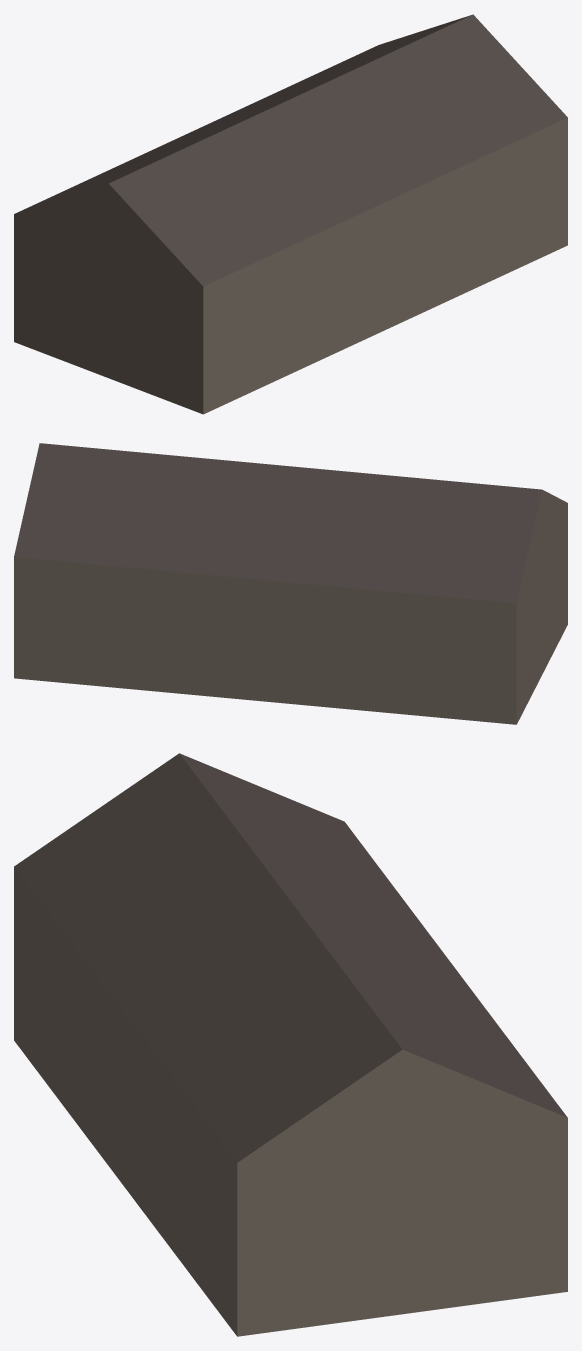
The picture shows the model from 3 angles, top to bottom: view 1: azimuth 30°, elevation 25°; view 2: azimuth 150°, elevation 25°; view 3: azimuth 270°, elevation 25°; orthographic projection. The views are drawn at different scales.
Visible parts, largest first — view 1: HP-w1376988795; view 2: HP-w1376988795; view 3: HP-w1376988795.
Part boxes in pixels (x1,y1,x2,y2): HP-w1376988795: [14, 14, 567, 414]; HP-w1376988795: [14, 443, 567, 724]; HP-w1376988795: [14, 753, 567, 1336].
Bounding box in the file's own units: 25.26 × 9.14 × 17.33.
